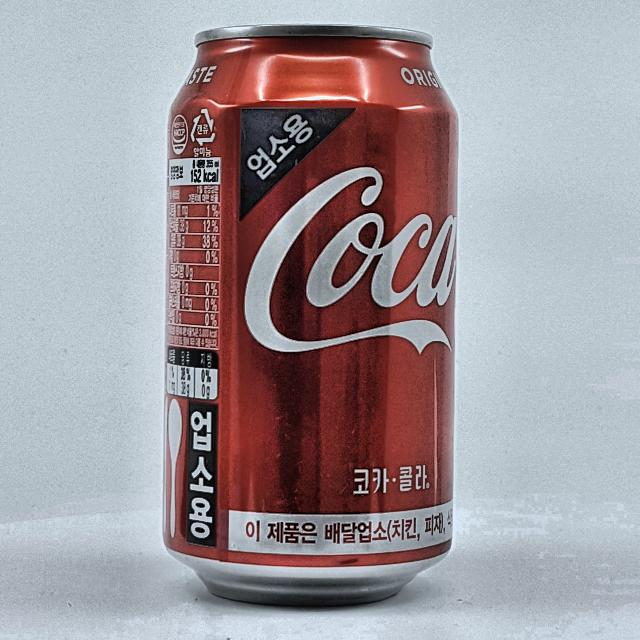cocacola: (164, 25, 458, 606)
